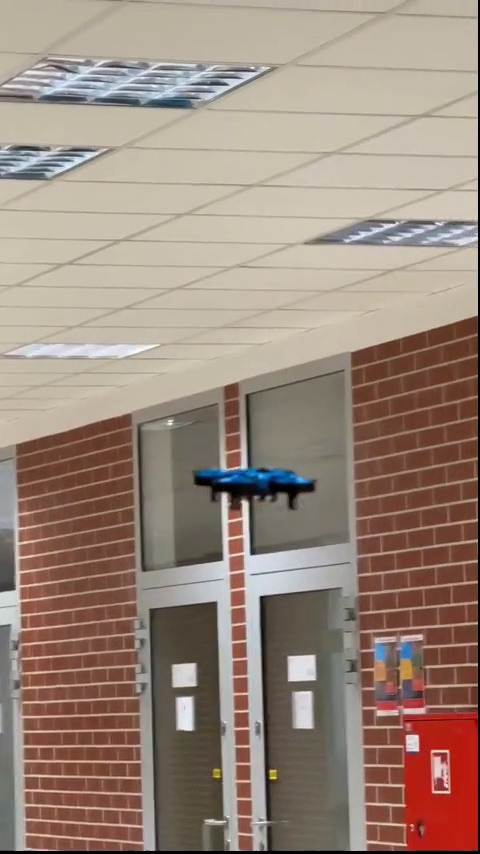drone: (189, 465, 311, 510)
